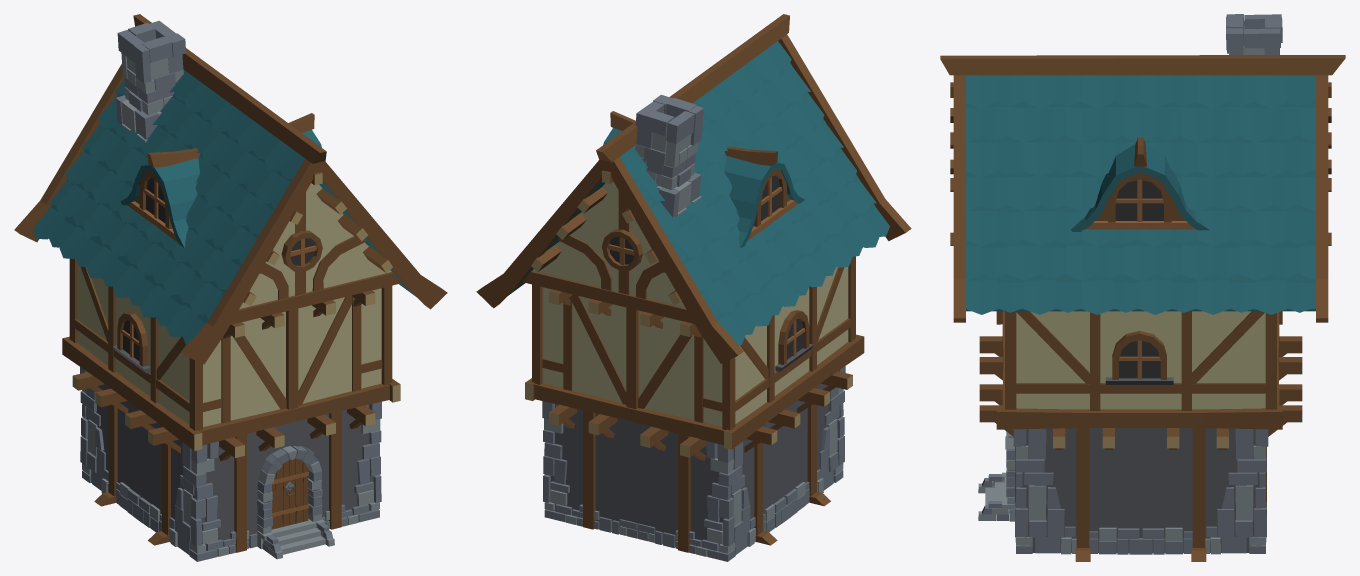
The model's file is house_1.glb.
The picture shows the model from 3 angles, left to right: view 1: azimuth 30°, elevation 25°; view 2: azimuth 150°, elevation 25°; view 3: azimuth 270°, elevation 25°; orthographic projection. The views are drawn at different scales.
Visible parts, largest first — view 1: House_1; view 2: House_1; view 3: House_1.
Boxes of the visible parts, left/top/right/bottom form: House_1: left=14, top=14, right=447, bottom=561; House_1: left=476, top=14, right=911, bottom=561; House_1: left=940, top=14, right=1345, bottom=561.
Size of the model in its own units: 2.14 by 3.39 by 2.66.
